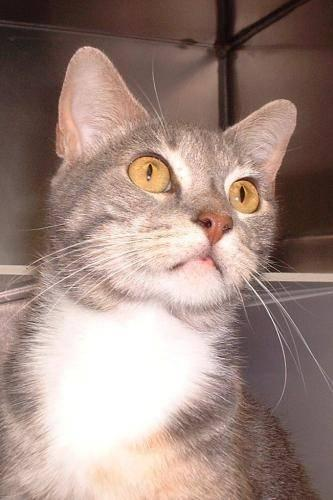cat: (1, 47, 310, 500)
